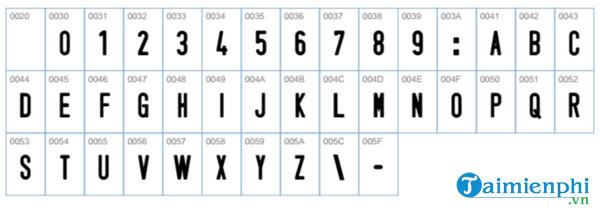-: (371, 161, 386, 173)
0: (58, 31, 72, 58)
1: (96, 31, 110, 58)
2: (138, 28, 150, 57)
3: (174, 28, 190, 57)
4: (213, 28, 230, 58)
5: (255, 29, 269, 58)
6: (293, 29, 307, 57)
7: (333, 29, 346, 56)
8: (371, 29, 387, 57)
9: (409, 27, 426, 57)
A: (490, 29, 503, 58)
B: (528, 28, 542, 58)
C: (565, 29, 583, 57)
D: (19, 91, 32, 119)
E: (58, 92, 71, 118)
F: (98, 92, 111, 119)
G: (138, 91, 149, 119)
H: (176, 90, 189, 119)
I: (217, 91, 227, 121)
J: (253, 90, 271, 121)
K: (291, 89, 310, 121)
L: (330, 90, 349, 121)
M: (371, 90, 389, 121)
N: (409, 89, 426, 121)
O: (448, 90, 466, 121)
P: (486, 91, 504, 120)
Q: (527, 90, 544, 122)
R: (564, 91, 584, 121)
S: (19, 151, 33, 184)
T: (58, 152, 72, 184)
U: (96, 152, 112, 183)
V: (135, 150, 152, 185)
W: (171, 151, 192, 185)
X: (213, 153, 231, 184)
Y: (254, 151, 267, 183)
Z: (293, 152, 308, 184)
